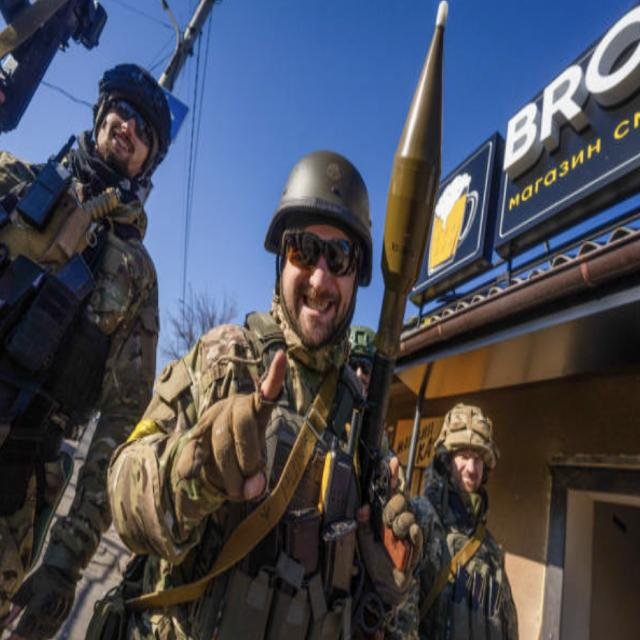bazooka: (313, 23, 459, 630)
